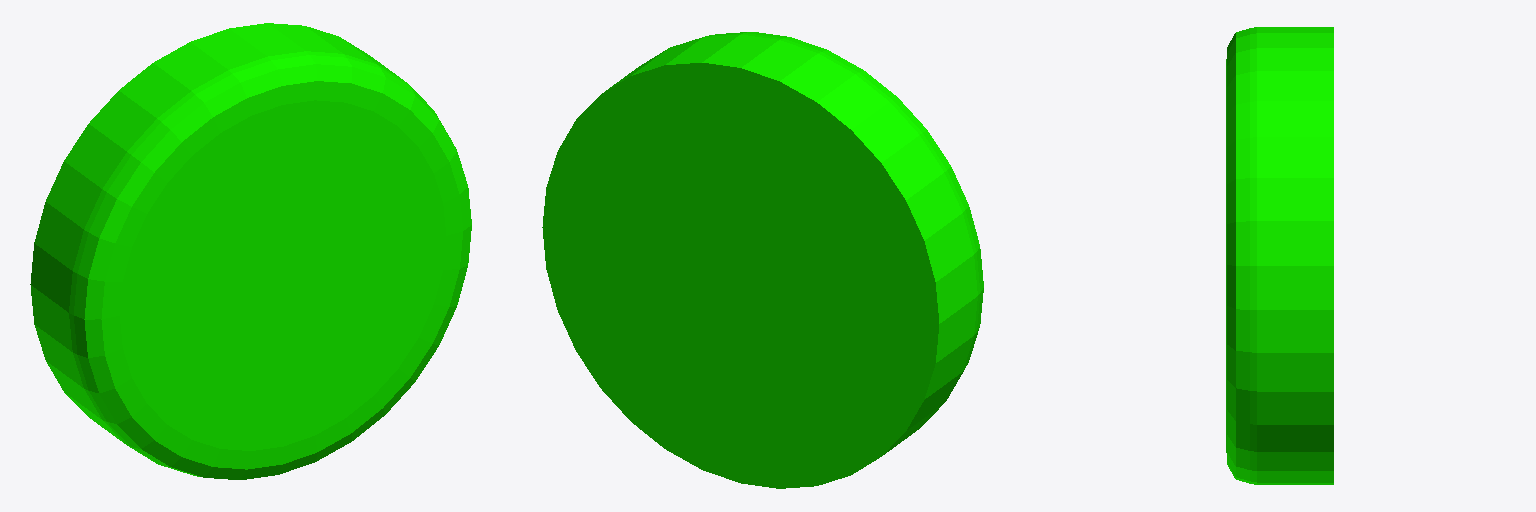
3 views of the same model, side by side, from view 1: azimuth 30°, elevation 25°; view 2: azimuth 150°, elevation 25°; view 3: azimuth 270°, elevation 25° (orthographic).
Visible parts, largest first — view 1: green_button; view 2: green_button; view 3: green_button.
Boxes of the visible parts, box(x1,y1,x2,y2) form: green_button: box(30, 23, 471, 479); green_button: box(542, 32, 983, 488); green_button: box(1226, 27, 1333, 484).
Bounding box in the file's own units: 0.8951 × 0.8951 × 0.2111.
Materials: 2 (1 with a texture image).